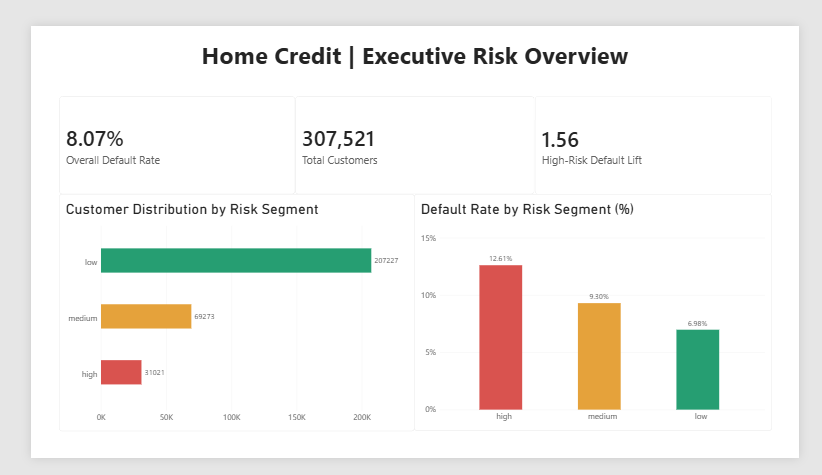

What the dashboard file says about the page in this screenshot:
{"tool":"powerbi","page":{"name":"Executive Risk Overview","canvas":[1920,1080],"ordinal":0},"visuals":[{"type":"textbox","box":[818.9,0,280,280],"z":0},{"type":"textbox","box":[150,420,300,300],"z":1000},{"type":"textbox","box":[150,730,300,300],"z":2000},{"type":"textbox","box":[0,0,280,280],"z":3000},{"type":"textbox","box":[0,31.9,1919.8,142.4],"z":4000},{"type":"cardVisual","title":"Overall Default Rate","fields":{"Data":["customer_risk_profile.Default Rate"]},"box":[70.2,174.3,591,246.6],"z":5000},{"type":"cardVisual","fields":{"Data":["customer_risk_profile.Total Customers"]},"box":[661.2,174.3,599.5,246.6],"z":6000},{"type":"clusteredBarChart","title":"Customer Distribution by Risk Segment","fields":{"Category":["segment_risk_summary.segment"],"Y":["Sum(segment_risk_summary.customers)"]},"box":[70.2,420.9,888.7,593.1],"z":7000},{"type":"clusteredColumnChart","title":"Default Rate by Risk Segment (%)","fields":{"Category":["segment_risk_summary.segment"],"Y":["Avg(segment_risk_summary.default_rate)"]},"box":[957.9,421.1,894.7,592.1],"z":8000},{"type":"cardVisual","fields":{"Data":["Avg(segment_risk_summary.lift)"]},"box":[1260.8,174.2,592.8,246.4],"z":9000}]}

Visuals, with their boxes in screenshot pixels (x1, y1, x2, y2), scaled from the page's 1920x1080 canvas onto the 822x475 screenshot:
textbox: select_region(351, 0, 470, 123)
textbox: select_region(64, 185, 193, 317)
textbox: select_region(64, 321, 193, 453)
textbox: select_region(0, 0, 120, 123)
textbox: select_region(0, 14, 821, 77)
"Overall Default Rate" cardVisual: select_region(30, 77, 283, 185)
cardVisual - customer_risk_profile.Total Customers: select_region(283, 77, 540, 185)
"Customer Distribution by Risk Segment" clusteredBarChart: select_region(30, 185, 411, 446)
"Default Rate by Risk Segment (%)" clusteredColumnChart: select_region(410, 185, 793, 446)
cardVisual - Avg(segment_risk_summary.lift): select_region(540, 77, 794, 185)
